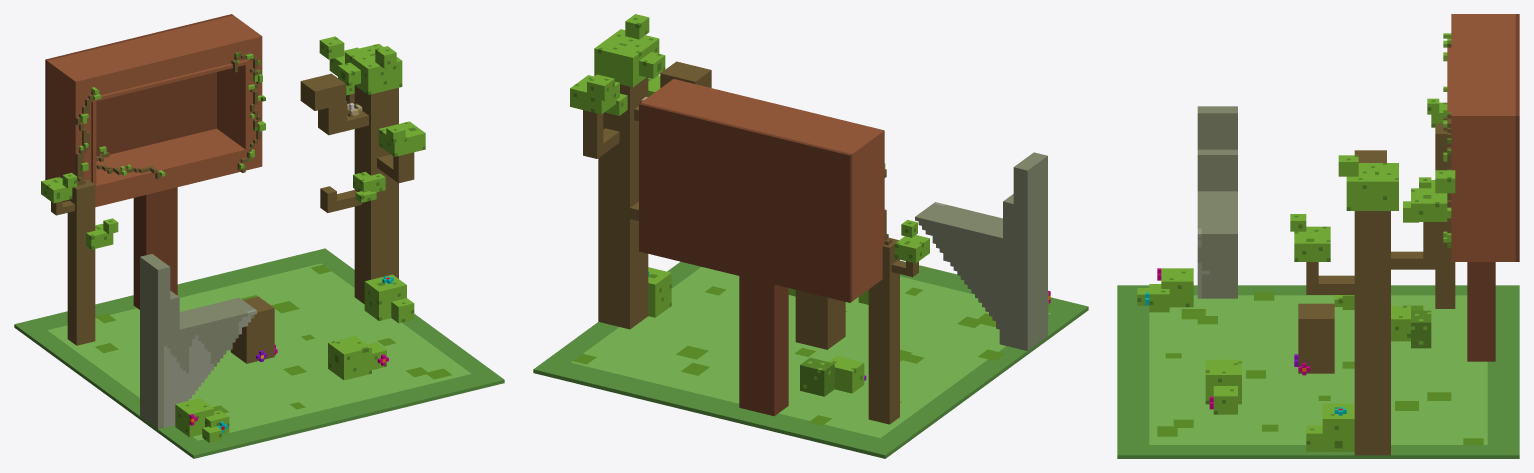
The model's file is hbitat_aguila.vox-2.obj.
The picture shows the model from 3 angles, left to right: view 1: azimuth 30°, elevation 25°; view 2: azimuth 150°, elevation 25°; view 3: azimuth 270°, elevation 25°; orthographic projection. The views are drawn at different scales.
Bounding box in the file's own units: 10 × 8 × 10.
Materials: 1 (1 with a texture image).
